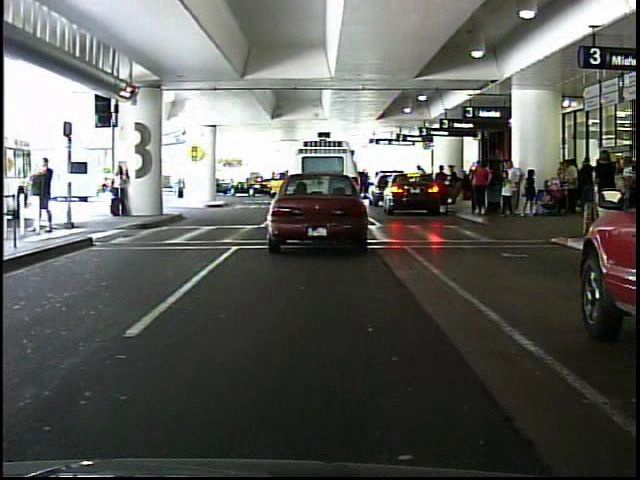person: (585, 146, 624, 235), (33, 150, 58, 237), (109, 160, 132, 219), (166, 160, 193, 203), (472, 161, 491, 218)
